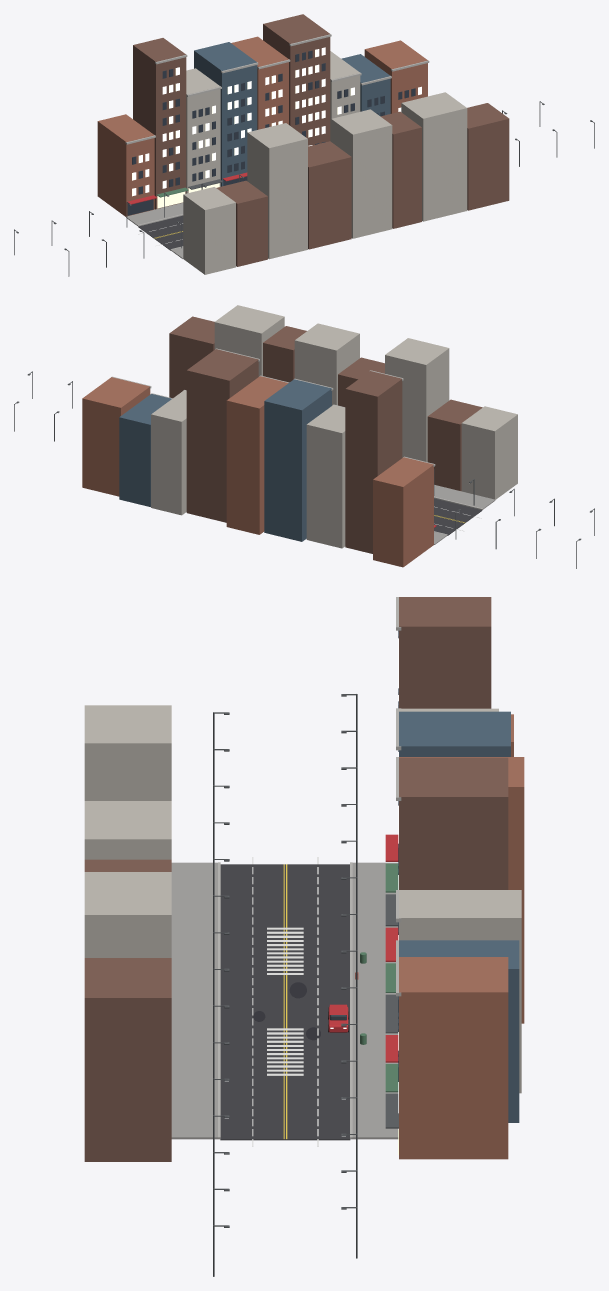
The model's file is city.glb.
The picture shows the model from 3 angles, top to bottom: view 1: azimuth 30°, elevation 25°; view 2: azimuth 150°, elevation 25°; view 3: azimuth 270°, elevation 25°; orthographic projection. The views are drawn at different scales.
Visible parts, largest first — view 1: bldgs11, bldg1, bldgs15, bldgs13, bldg5, bldg3, bldg0, bldgs12, bldgs16, bldgs9, bldgs14, bldg2 (+7 smaller); view 2: bldg5, bldg1, bldg3, bldg4, bldg0, bldg2, bldgs11, bldg8, bldgs9, bldg6, bldg7, bldgs13 (+7 smaller); view 3: road, bldg8, bldgs16, bldg5, sidewalk-1, bldg1, sidewalk1, bldgs11, bldgs15, bldg6, bldgs13, bldg3 (+3 smaller).
Boxes of the visible parts, bbox=[...] form: bldgs11: bbox=[247, 123, 307, 259]; bldg1: bbox=[133, 38, 186, 209]; bldgs15: bbox=[401, 92, 467, 221]; bldgs13: bbox=[331, 109, 392, 238]; bldg5: bbox=[263, 14, 330, 146]; bldg3: bbox=[194, 42, 257, 186]; bldg0: bbox=[97, 114, 154, 216]; bldgs12: bbox=[308, 141, 351, 249]; bldgs16: bbox=[467, 103, 509, 210]; bldgs9: bbox=[183, 187, 235, 274]; bldgs14: bbox=[380, 111, 421, 228]; bldg2: bbox=[186, 68, 220, 193]; bldg5: bbox=[186, 349, 258, 522]; bldg1: bbox=[345, 371, 402, 553]; bldg3: bbox=[264, 379, 331, 541]; bldg4: bbox=[226, 376, 288, 534]; bldg0: bbox=[373, 457, 433, 567]; bldg2: bbox=[306, 405, 345, 548]; bldgs11: bbox=[385, 338, 449, 462]; bldg8: bbox=[82, 377, 150, 496]; bldgs9: bbox=[461, 406, 517, 499]; bldg6: bbox=[151, 390, 186, 515]; bldg7: bbox=[119, 394, 171, 506]; bldgs13: bbox=[294, 323, 359, 405]; road: bbox=[220, 864, 350, 1140]; bldg8: bbox=[399, 957, 508, 1159]; bldgs16: bbox=[84, 958, 171, 1161]; bldg5: bbox=[399, 757, 508, 889]; sidewalk-1: bbox=[171, 862, 219, 1139]; bldg1: bbox=[399, 597, 491, 708]; sidewalk1: bbox=[351, 862, 398, 1139]; bldgs11: bbox=[84, 705, 171, 800]; bldgs15: bbox=[84, 872, 171, 957]; bldg6: bbox=[399, 890, 521, 1093]; bldgs13: bbox=[84, 801, 171, 859]; bldg3: bbox=[399, 711, 510, 756].
Size of the model in its own units: 116 by 30.29 by 40.53.
